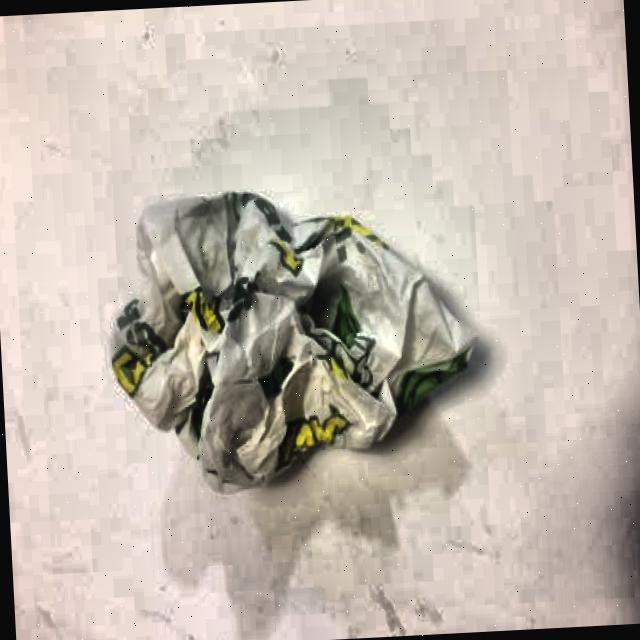paper: (108, 182, 483, 473)
